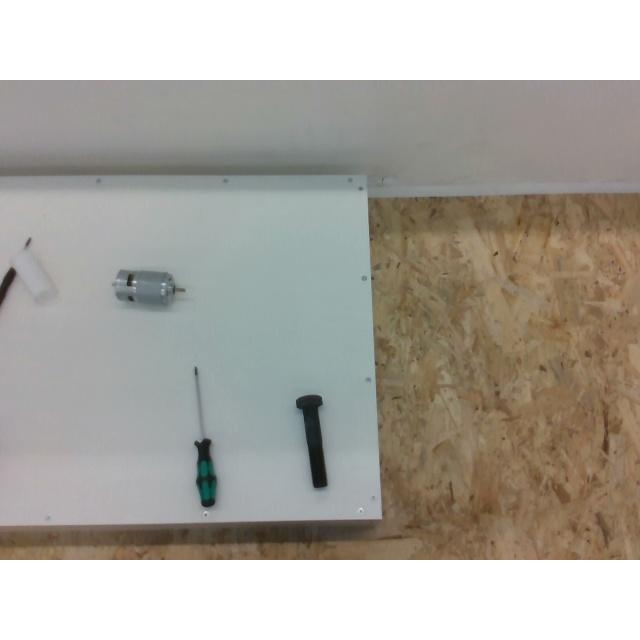M20_100: (296, 395, 328, 487)
Motor2: (114, 270, 176, 306)
Screwdriver: (194, 366, 216, 506)
Spacer: (10, 238, 56, 302)
